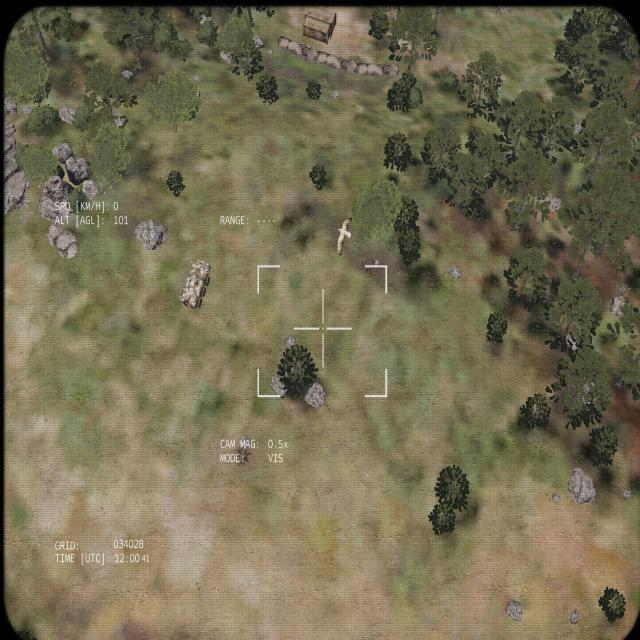apc: (176, 258, 212, 308)
